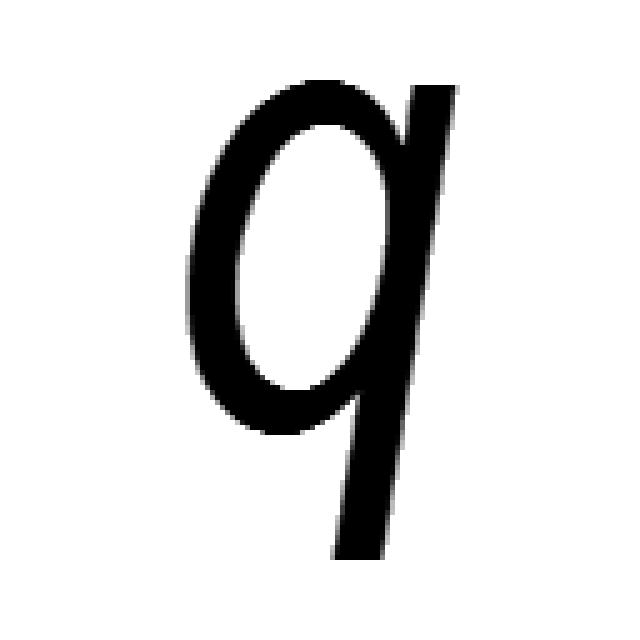Q: (175, 70, 465, 560)
